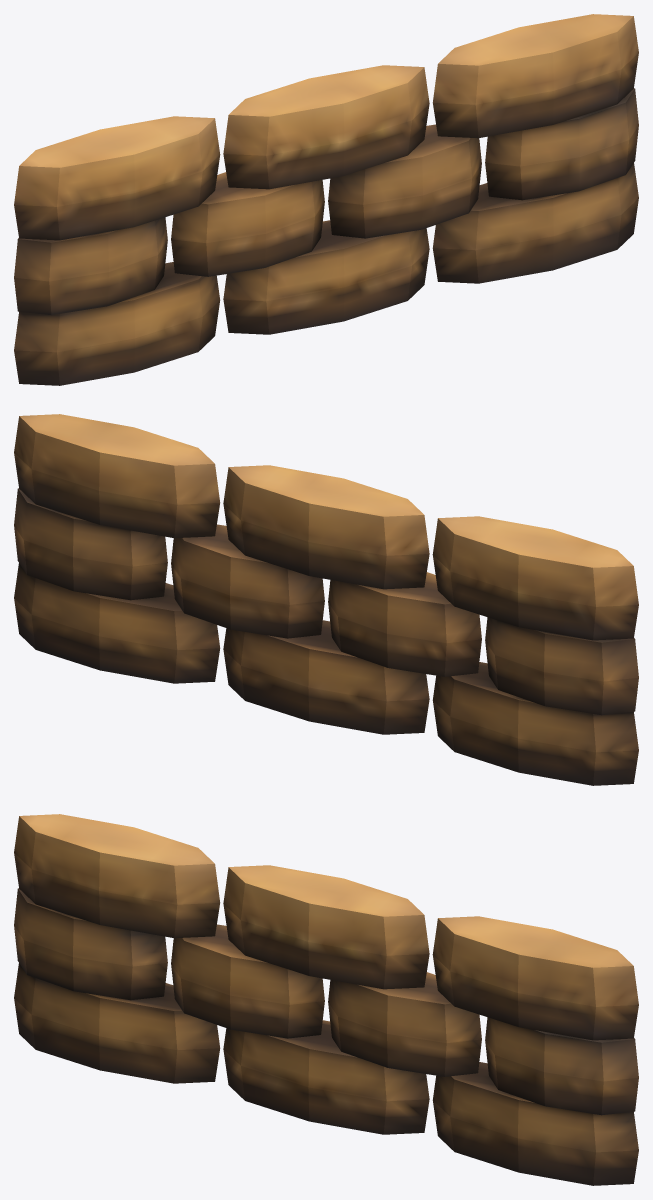
File: DR_SandbagStack3.fbx
The picture shows the model from 3 angles, top to bottom: view 1: azimuth 30°, elevation 25°; view 2: azimuth 150°, elevation 25°; view 3: azimuth 330°, elevation 25°; orthographic projection.
Visible parts, largest first — view 1: DR_SandbagStack3; view 2: DR_SandbagStack3; view 3: DR_SandbagStack3.
Boxes of the visible parts, left/top/right/bottom form: DR_SandbagStack3: left=14, top=14, right=638, bottom=385; DR_SandbagStack3: left=14, top=414, right=638, bottom=785; DR_SandbagStack3: left=14, top=814, right=638, bottom=1185.
Bounding box in the file's own units: 3 × 0.3 × 1.
Materials: 1 (1 with a texture image).
